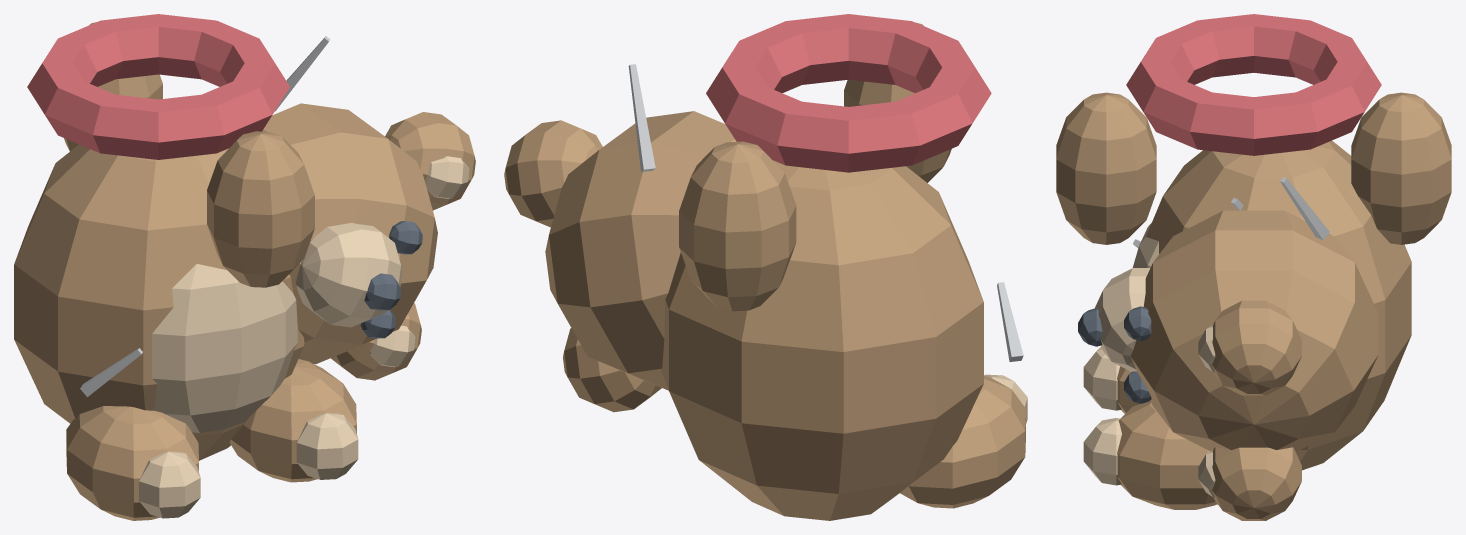
The model's file is toy_bear_botched.glb.
The picture shows the model from 3 angles, left to right: view 1: azimuth 30°, elevation 25°; view 2: azimuth 150°, elevation 25°; view 3: azimuth 270°, elevation 25°; orthographic projection. The views are drawn at different scales.
Visible parts, largest first — view 1: Body, Belly, Scarf, Eye.-1, Bent nail.0; view 2: Body, Scarf, Bent nail.0; view 3: Body, Scarf, Belly, Eye.-1, Bent nail.0.
Part boxes in pixels (bbox=[...]): Body: bbox=[14, 22, 475, 520]; Belly: bbox=[138, 156, 469, 518]; Scarf: bbox=[27, 14, 289, 159]; Eye.-1: bbox=[360, 221, 422, 338]; Bent nail.0: bbox=[80, 36, 330, 396]; Body: bbox=[504, 22, 1025, 520]; Scarf: bbox=[706, 14, 991, 172]; Bent nail.0: bbox=[628, 64, 1023, 361]; Body: bbox=[1056, 92, 1451, 520]; Scarf: bbox=[1126, 14, 1381, 155]; Belly: bbox=[1083, 223, 1215, 497]; Eye.-1: bbox=[1078, 306, 1151, 403]; Bent nail.0: bbox=[1133, 177, 1329, 248].
Bounding box in the file's own units: 0.4911 × 0.4445 × 0.402.
